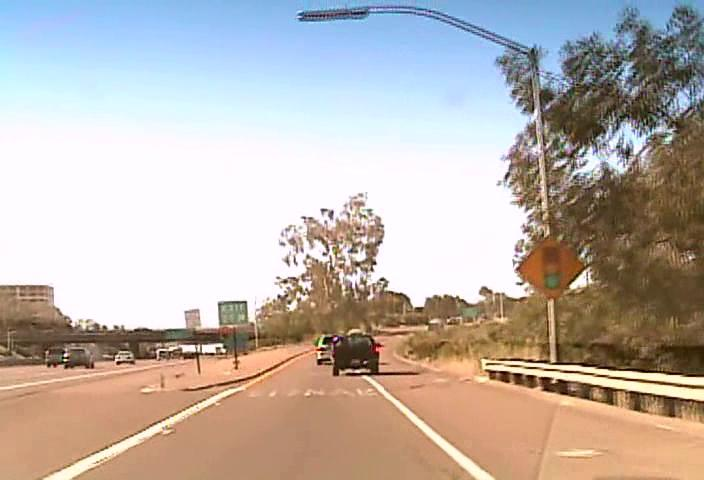signalAhead: (515, 234, 584, 301)
